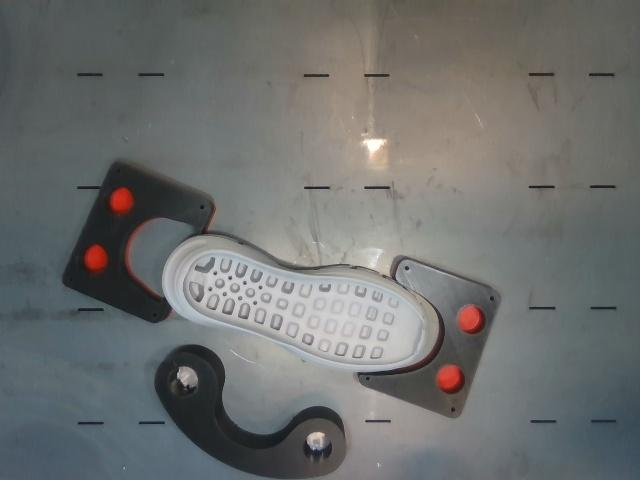shoes: (183, 253, 422, 366)
